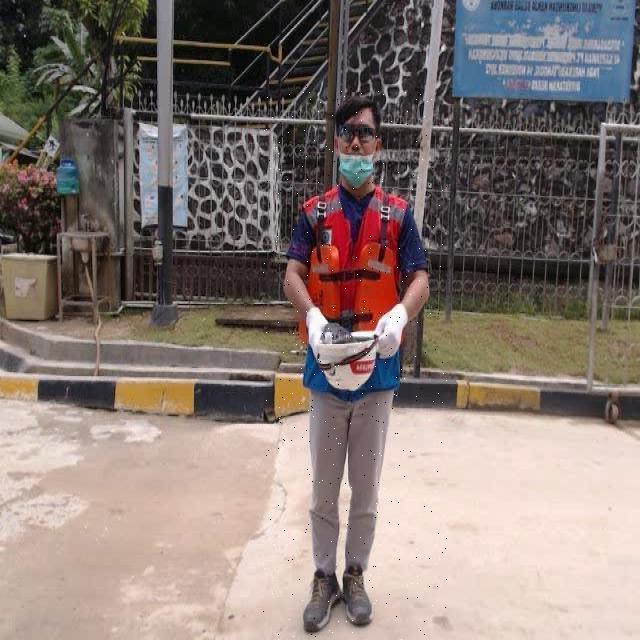gloves: (373, 303, 408, 362), (305, 306, 327, 358)
goggles: (337, 127, 375, 144)
helmet: (317, 326, 379, 397)
safety_vest: (300, 186, 409, 393)
